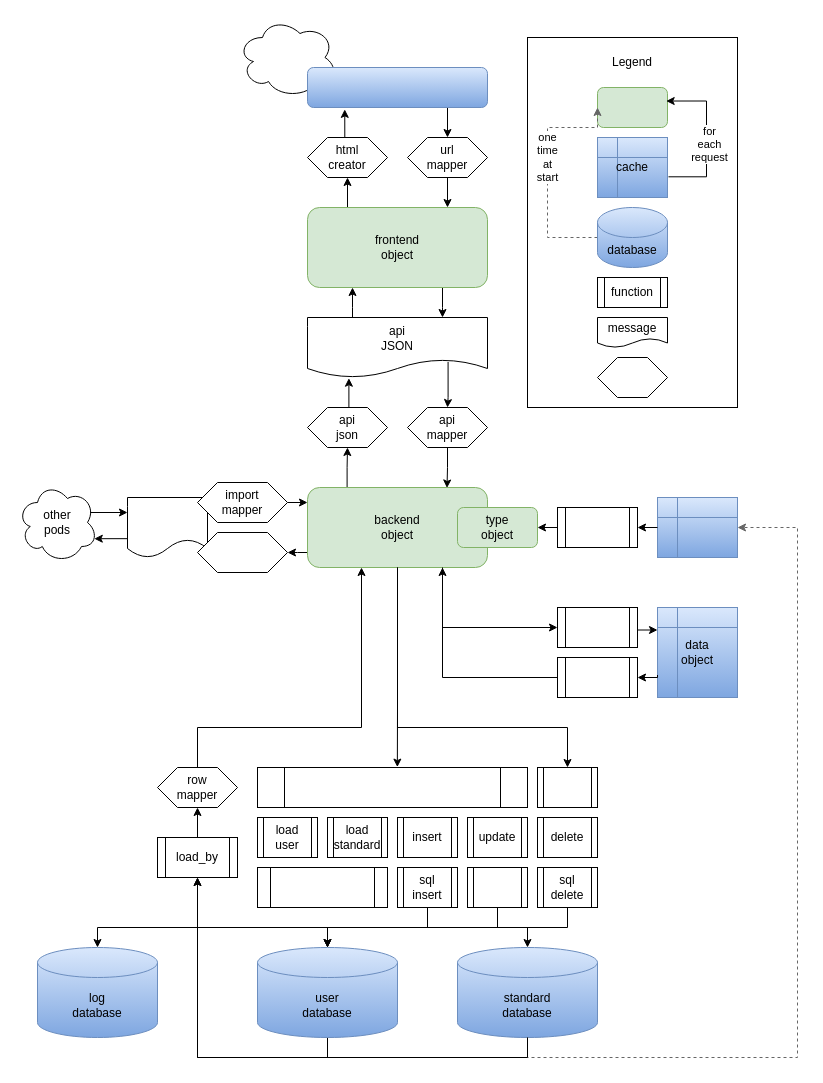
Some shapes in this 823 by 1083 pixel diagram are drawn without their labels. The shapes that lost their labels are listed below. From the top down, each one's centre as x and y in pixels, then its label:
(x=287, y=57): Internet
(x=397, y=87): HTML
(x=632, y=107): main object
(x=632, y=377): mapper
(x=167, y=527): exchange JSON
(x=597, y=527): get
(x=697, y=527): sys
(x=242, y=552): export json
(x=597, y=627): add
(x=597, y=677): get_by
(x=392, y=787): save
(x=567, y=787): del
(x=322, y=887): sql load
(x=497, y=887): sql update
